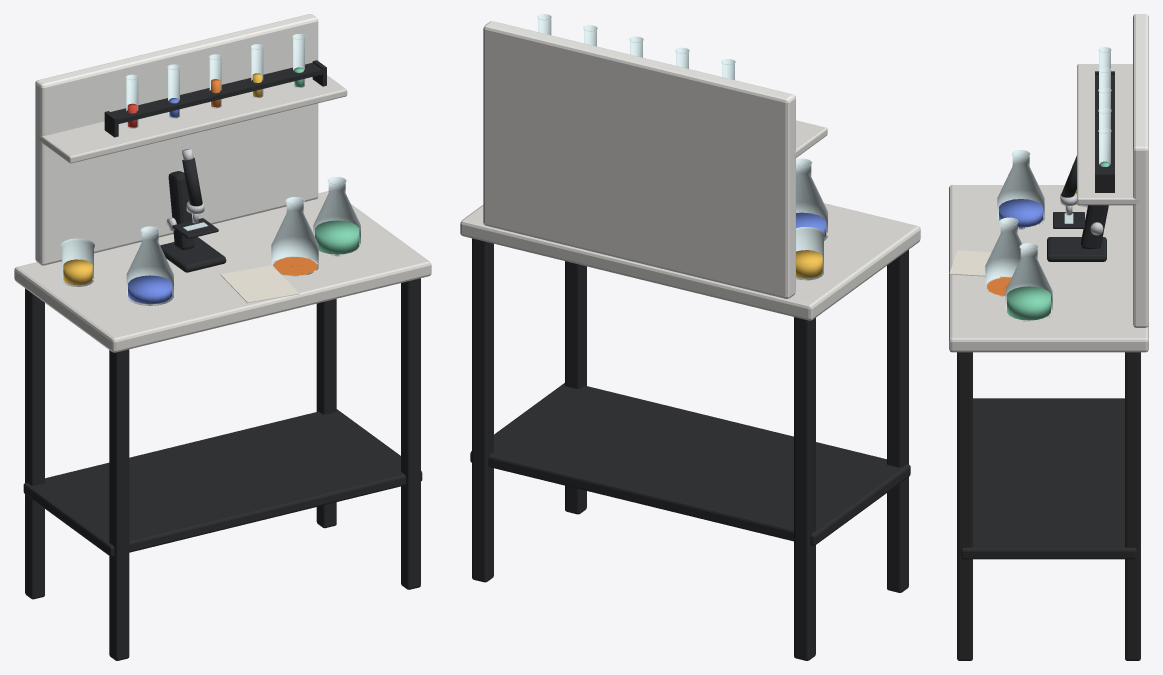
File: chemistrySet.glb
3 renders of one model, left to right at view 1: azimuth 30°, elevation 25°; view 2: azimuth 150°, elevation 25°; view 3: azimuth 270°, elevation 25°, orthographic. The views are drawn at different scales.
Visible parts, largest first — view 1: body, liquid; view 2: body; view 3: body, liquid.
Part boxes in pixels (x1,y1,x2,y2): body: (14, 14, 431, 660); liquid: (273, 257, 317, 275); body: (460, 14, 920, 660); body: (949, 14, 1148, 660); liquid: (987, 277, 1011, 295).
Size of the model in its own units: 0.92 by 1.4 by 0.5.
